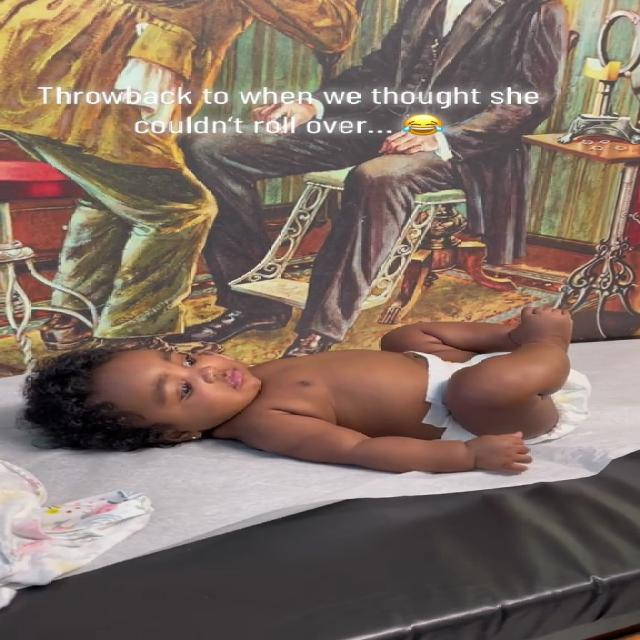baby: (20, 300, 602, 483)
